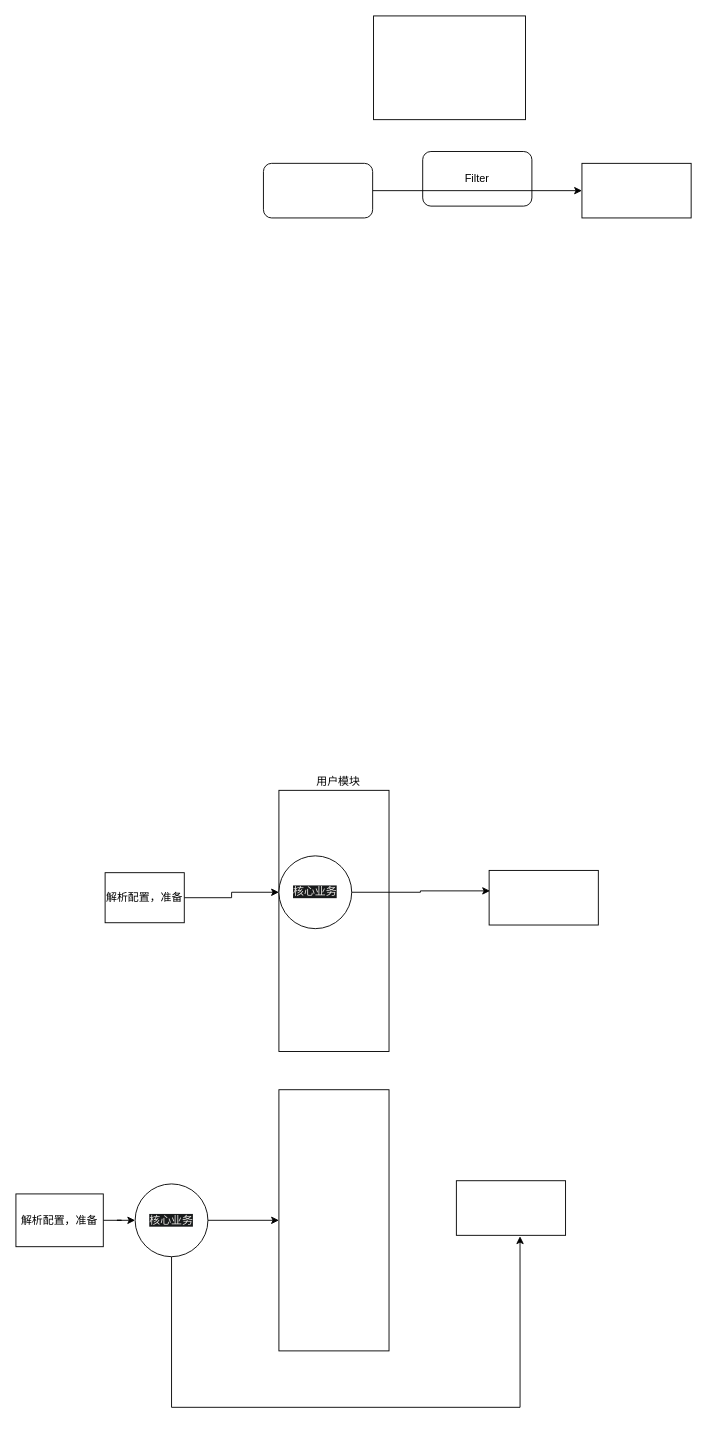
This 707x1431 diagram has some shape labels left out. Here are the shapes that lost their labels. From the top down, the centre of each, then its label:
pixel 449 67: springIOC
pixel 636 190: 持久化
pixel 333 1220: 提供少量配置
